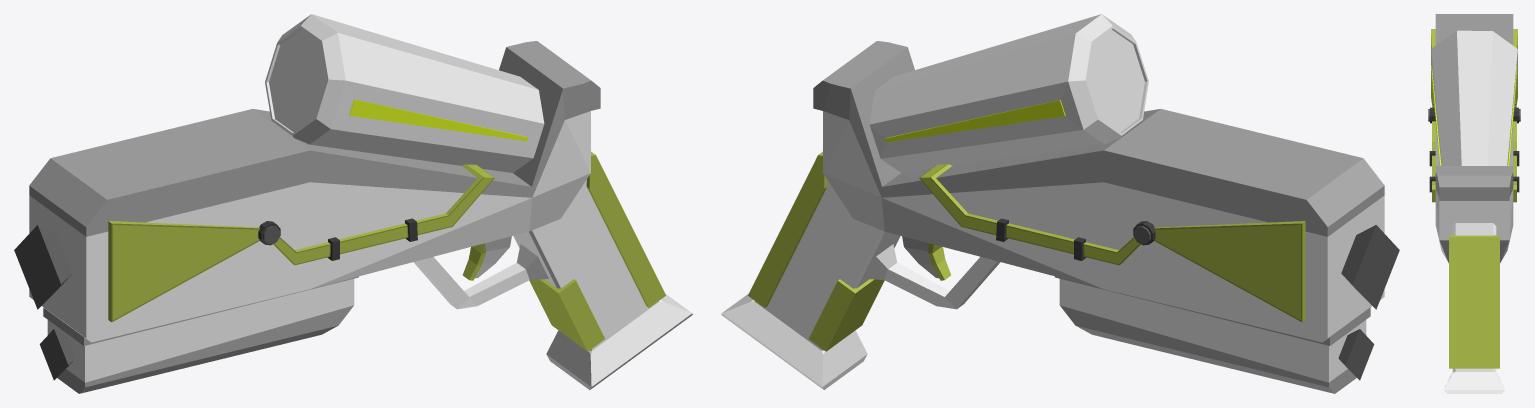
Rendered from Level2Textured.fbx.
3 renders of one model, left to right at view 1: azimuth 30°, elevation 25°; view 2: azimuth 150°, elevation 25°; view 3: azimuth 270°, elevation 25°, orthographic. The views are drawn at different scales.
Parts seen in each view (by area): view 1: Body, Canister, SecondBody, Handle.001, TriPad, RubberPad.001, TubeThing, TriggerRing.001, Nozzle.001, RubberPad.002, FuelBar, Trigger.001 (+1 smaller); view 2: Body, Canister, SecondBody, Handle.001, TriPad, TubeThing, RubberPad.001, TriggerRing.001, Nozzle.001, RubberPad.002, FuelBar, Trigger.001 (+1 smaller); view 3: Canister, Body, RubberPad.001, Handle.001, TubeThing, FuelBar, TriPad, TubeCover, PipeConnector.
Part boxes in pixels (bbox=[...]): Body: bbox=[29, 41, 600, 342]; Canister: bbox=[265, 14, 544, 172]; SecondBody: bbox=[43, 276, 358, 393]; Handle.001: bbox=[513, 179, 692, 389]; TriPad: bbox=[108, 221, 259, 322]; RubberPad.001: bbox=[586, 151, 665, 307]; TubeThing: bbox=[273, 164, 494, 265]; TriggerRing.001: bbox=[413, 244, 548, 309]; Nozzle.001: bbox=[14, 225, 72, 309]; RubberPad.002: bbox=[529, 279, 604, 351]; FuelBar: bbox=[349, 99, 528, 141]; Trigger.001: bbox=[462, 236, 511, 280]; Body: bbox=[813, 41, 1384, 342]; Canister: bbox=[869, 14, 1148, 172]; SecondBody: bbox=[1055, 276, 1370, 393]; Handle.001: bbox=[721, 180, 900, 389]; TriPad: bbox=[1154, 221, 1305, 322]; TubeThing: bbox=[919, 164, 1140, 265]; RubberPad.001: bbox=[748, 151, 827, 307]; TriggerRing.001: bbox=[865, 244, 1000, 309]; Nozzle.001: bbox=[1341, 225, 1399, 309]; RubberPad.002: bbox=[809, 279, 884, 351]; FuelBar: bbox=[885, 100, 1065, 142]; Trigger.001: bbox=[902, 236, 951, 280]; Canister: bbox=[1431, 30, 1517, 165]; Body: bbox=[1435, 14, 1513, 262]; RubberPad.001: bbox=[1449, 235, 1499, 368]; Handle.001: bbox=[1443, 223, 1505, 393]; TubeThing: bbox=[1432, 121, 1516, 202]; FuelBar: bbox=[1431, 66, 1516, 165]; TriPad: bbox=[1431, 29, 1517, 107]; TubeCover: bbox=[1429, 151, 1519, 192]; PipeConnector: bbox=[1428, 107, 1520, 123].
Size of the model in its own units: 2.86 by 0.5271 by 1.78.
